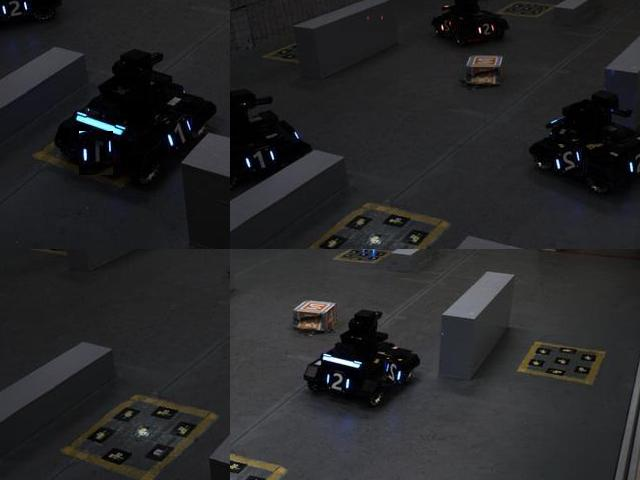armor: (80, 131, 115, 176), (159, 114, 194, 154), (242, 142, 278, 177), (554, 145, 584, 178), (321, 368, 352, 398), (0, 0, 33, 22), (383, 360, 408, 388), (472, 21, 500, 39), (624, 150, 639, 177), (439, 17, 456, 37)
